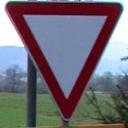preferencia: (4, 0, 125, 120)
